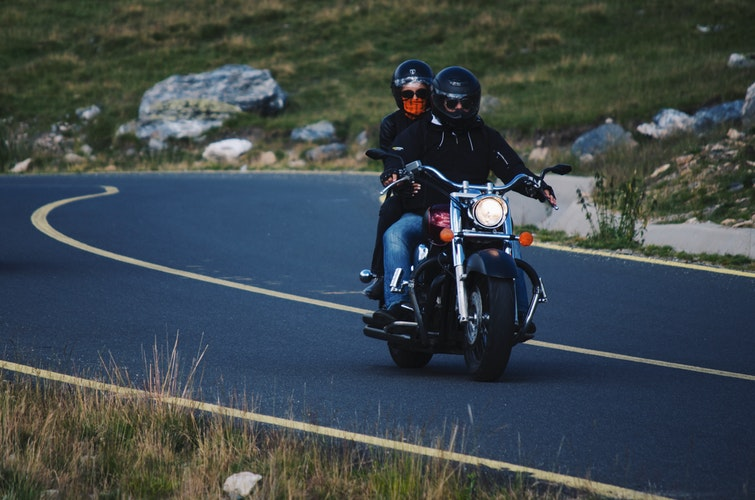helmet: (428, 68, 490, 134), (385, 60, 438, 107)
